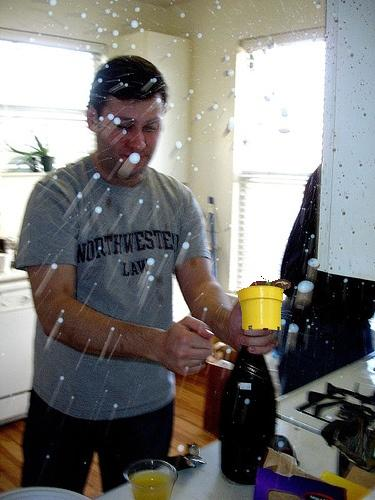tampered: (238, 277, 291, 330)
